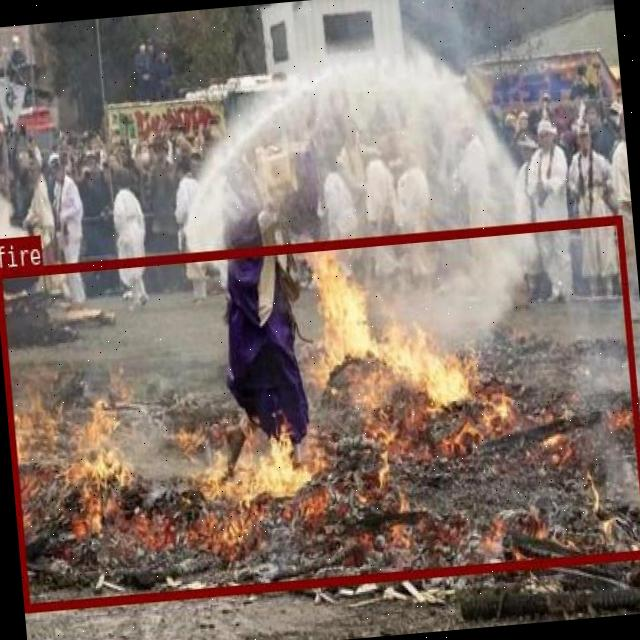fire: (0, 214, 640, 608)
